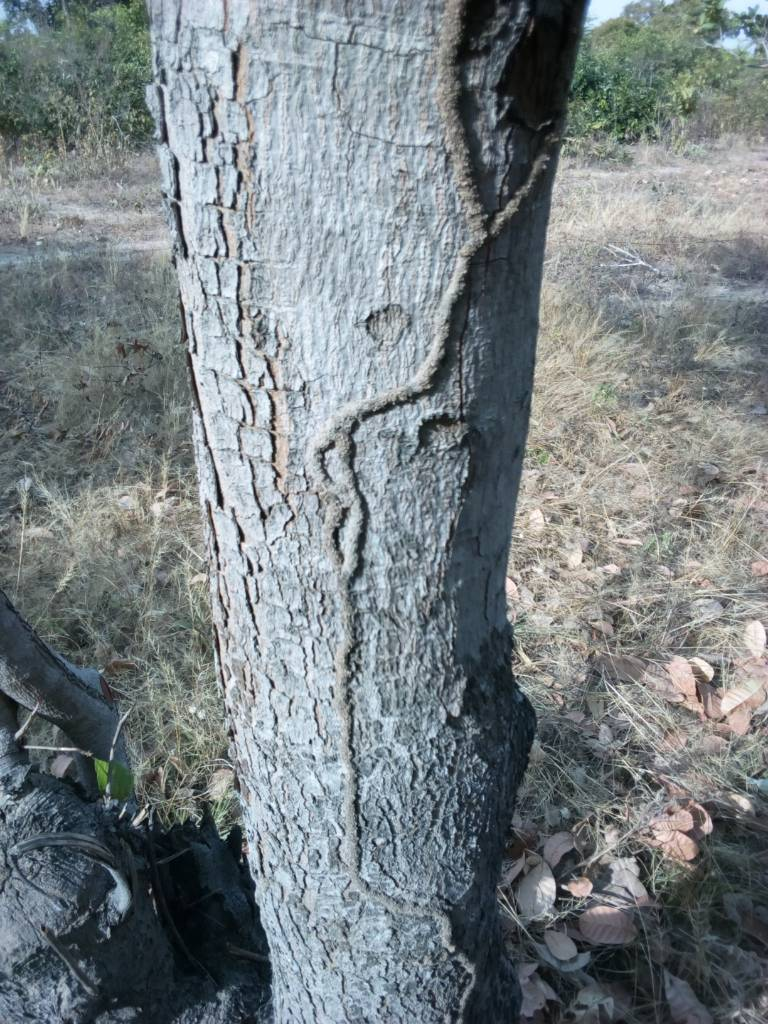Termites: (411, 2, 549, 408), (300, 324, 391, 908)
